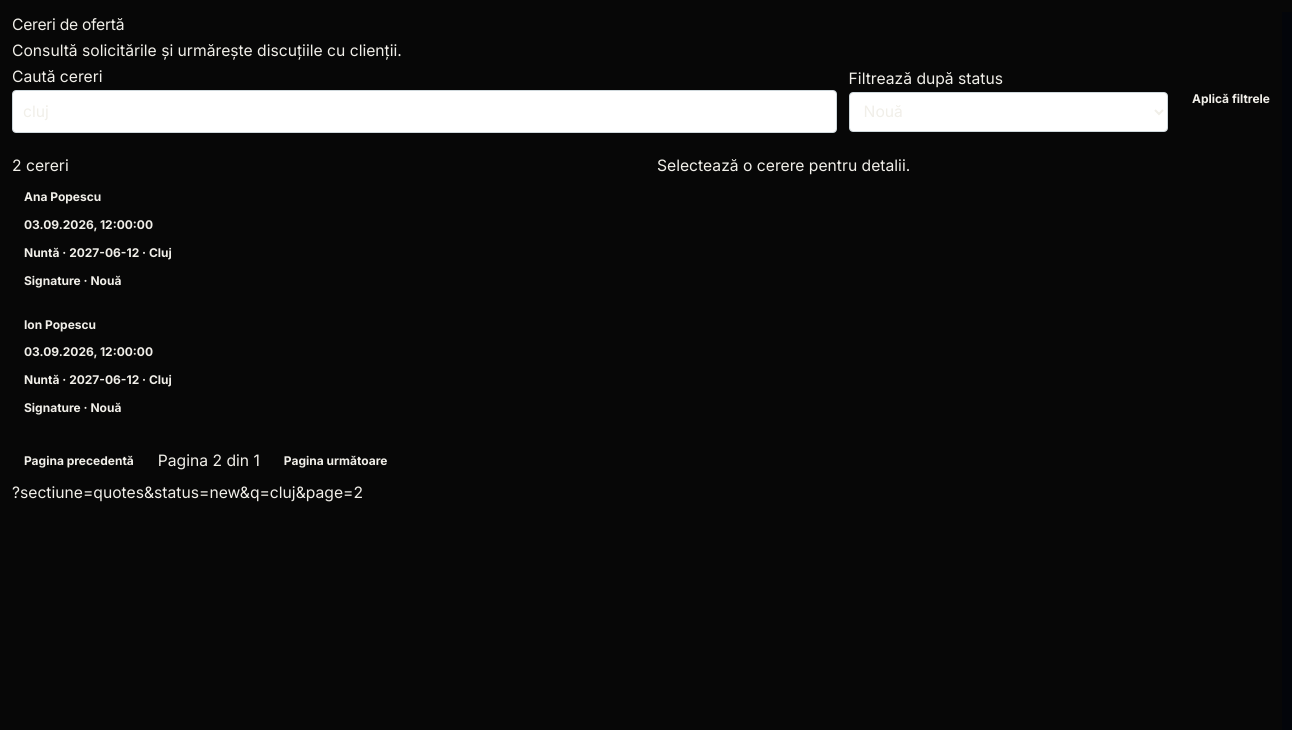
Test: loads URL filters, displays customer detail safely and saves only through the global session
Later steps or results of the test are not shown.
Expected: the text "Notă privată" is not shown
What coordinates should you click on to do the following:
click the button with aria-label "Deschide cererea Ana Popescu"
I would click on:
 (63, 197)
Its box is [12,179,637,298].
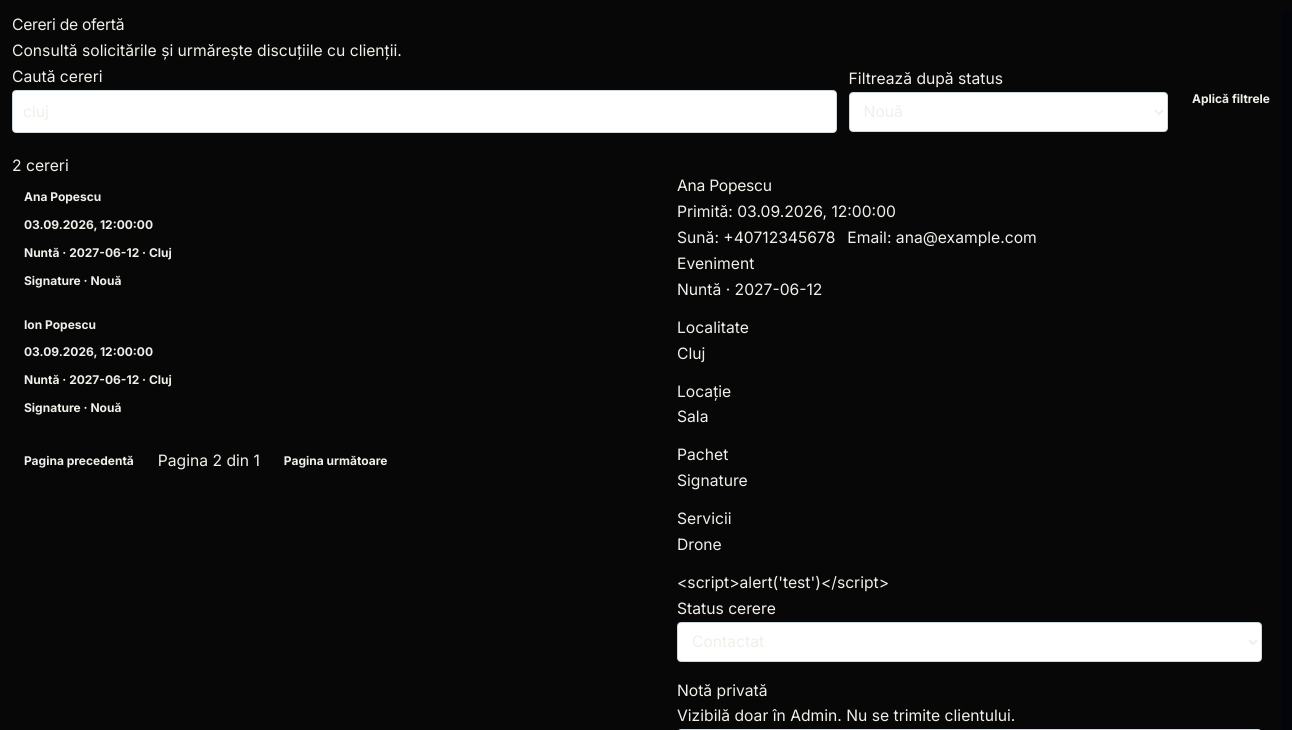
Expected: the link "Email: ana@example.com" is shown, [847,225,1037,251]
